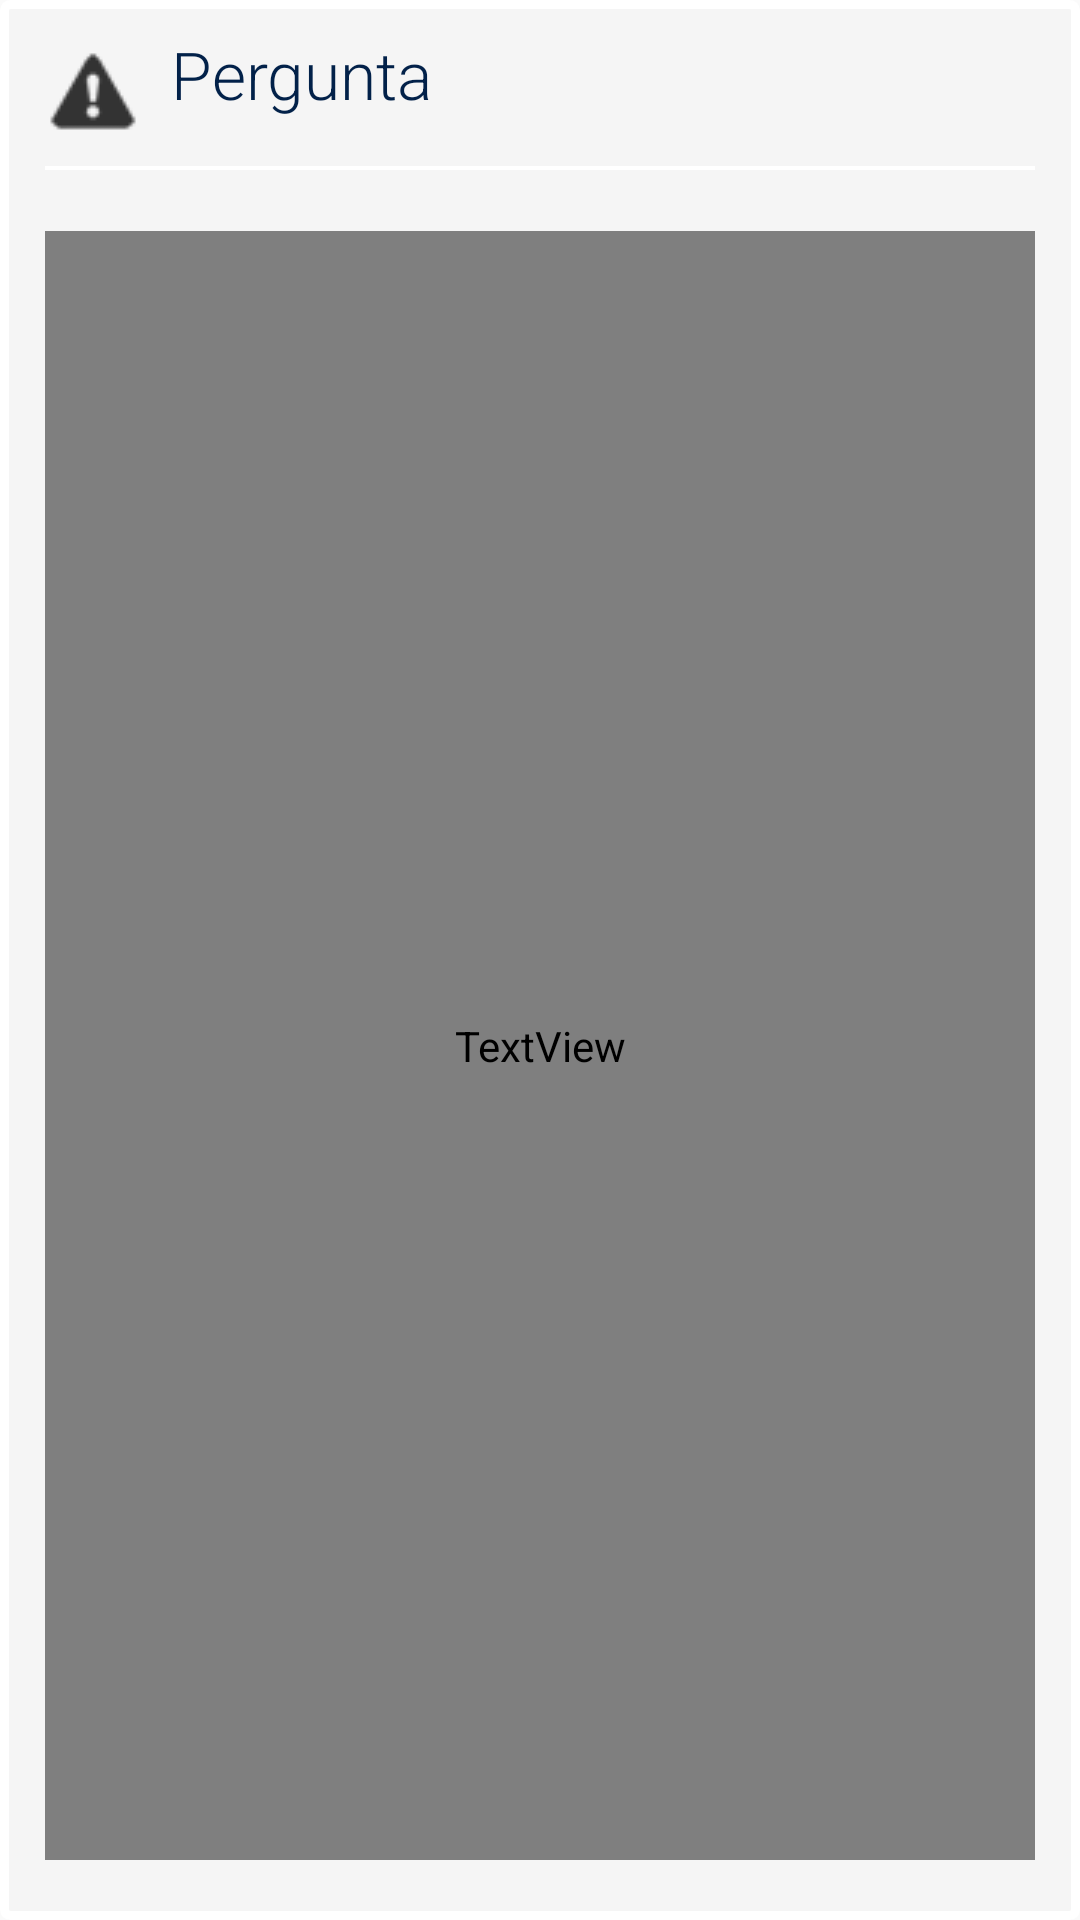

Icon click points for this 1080 x 1920 phone screenshot, format (x=x, y=y):
error: (x=93, y=91)
